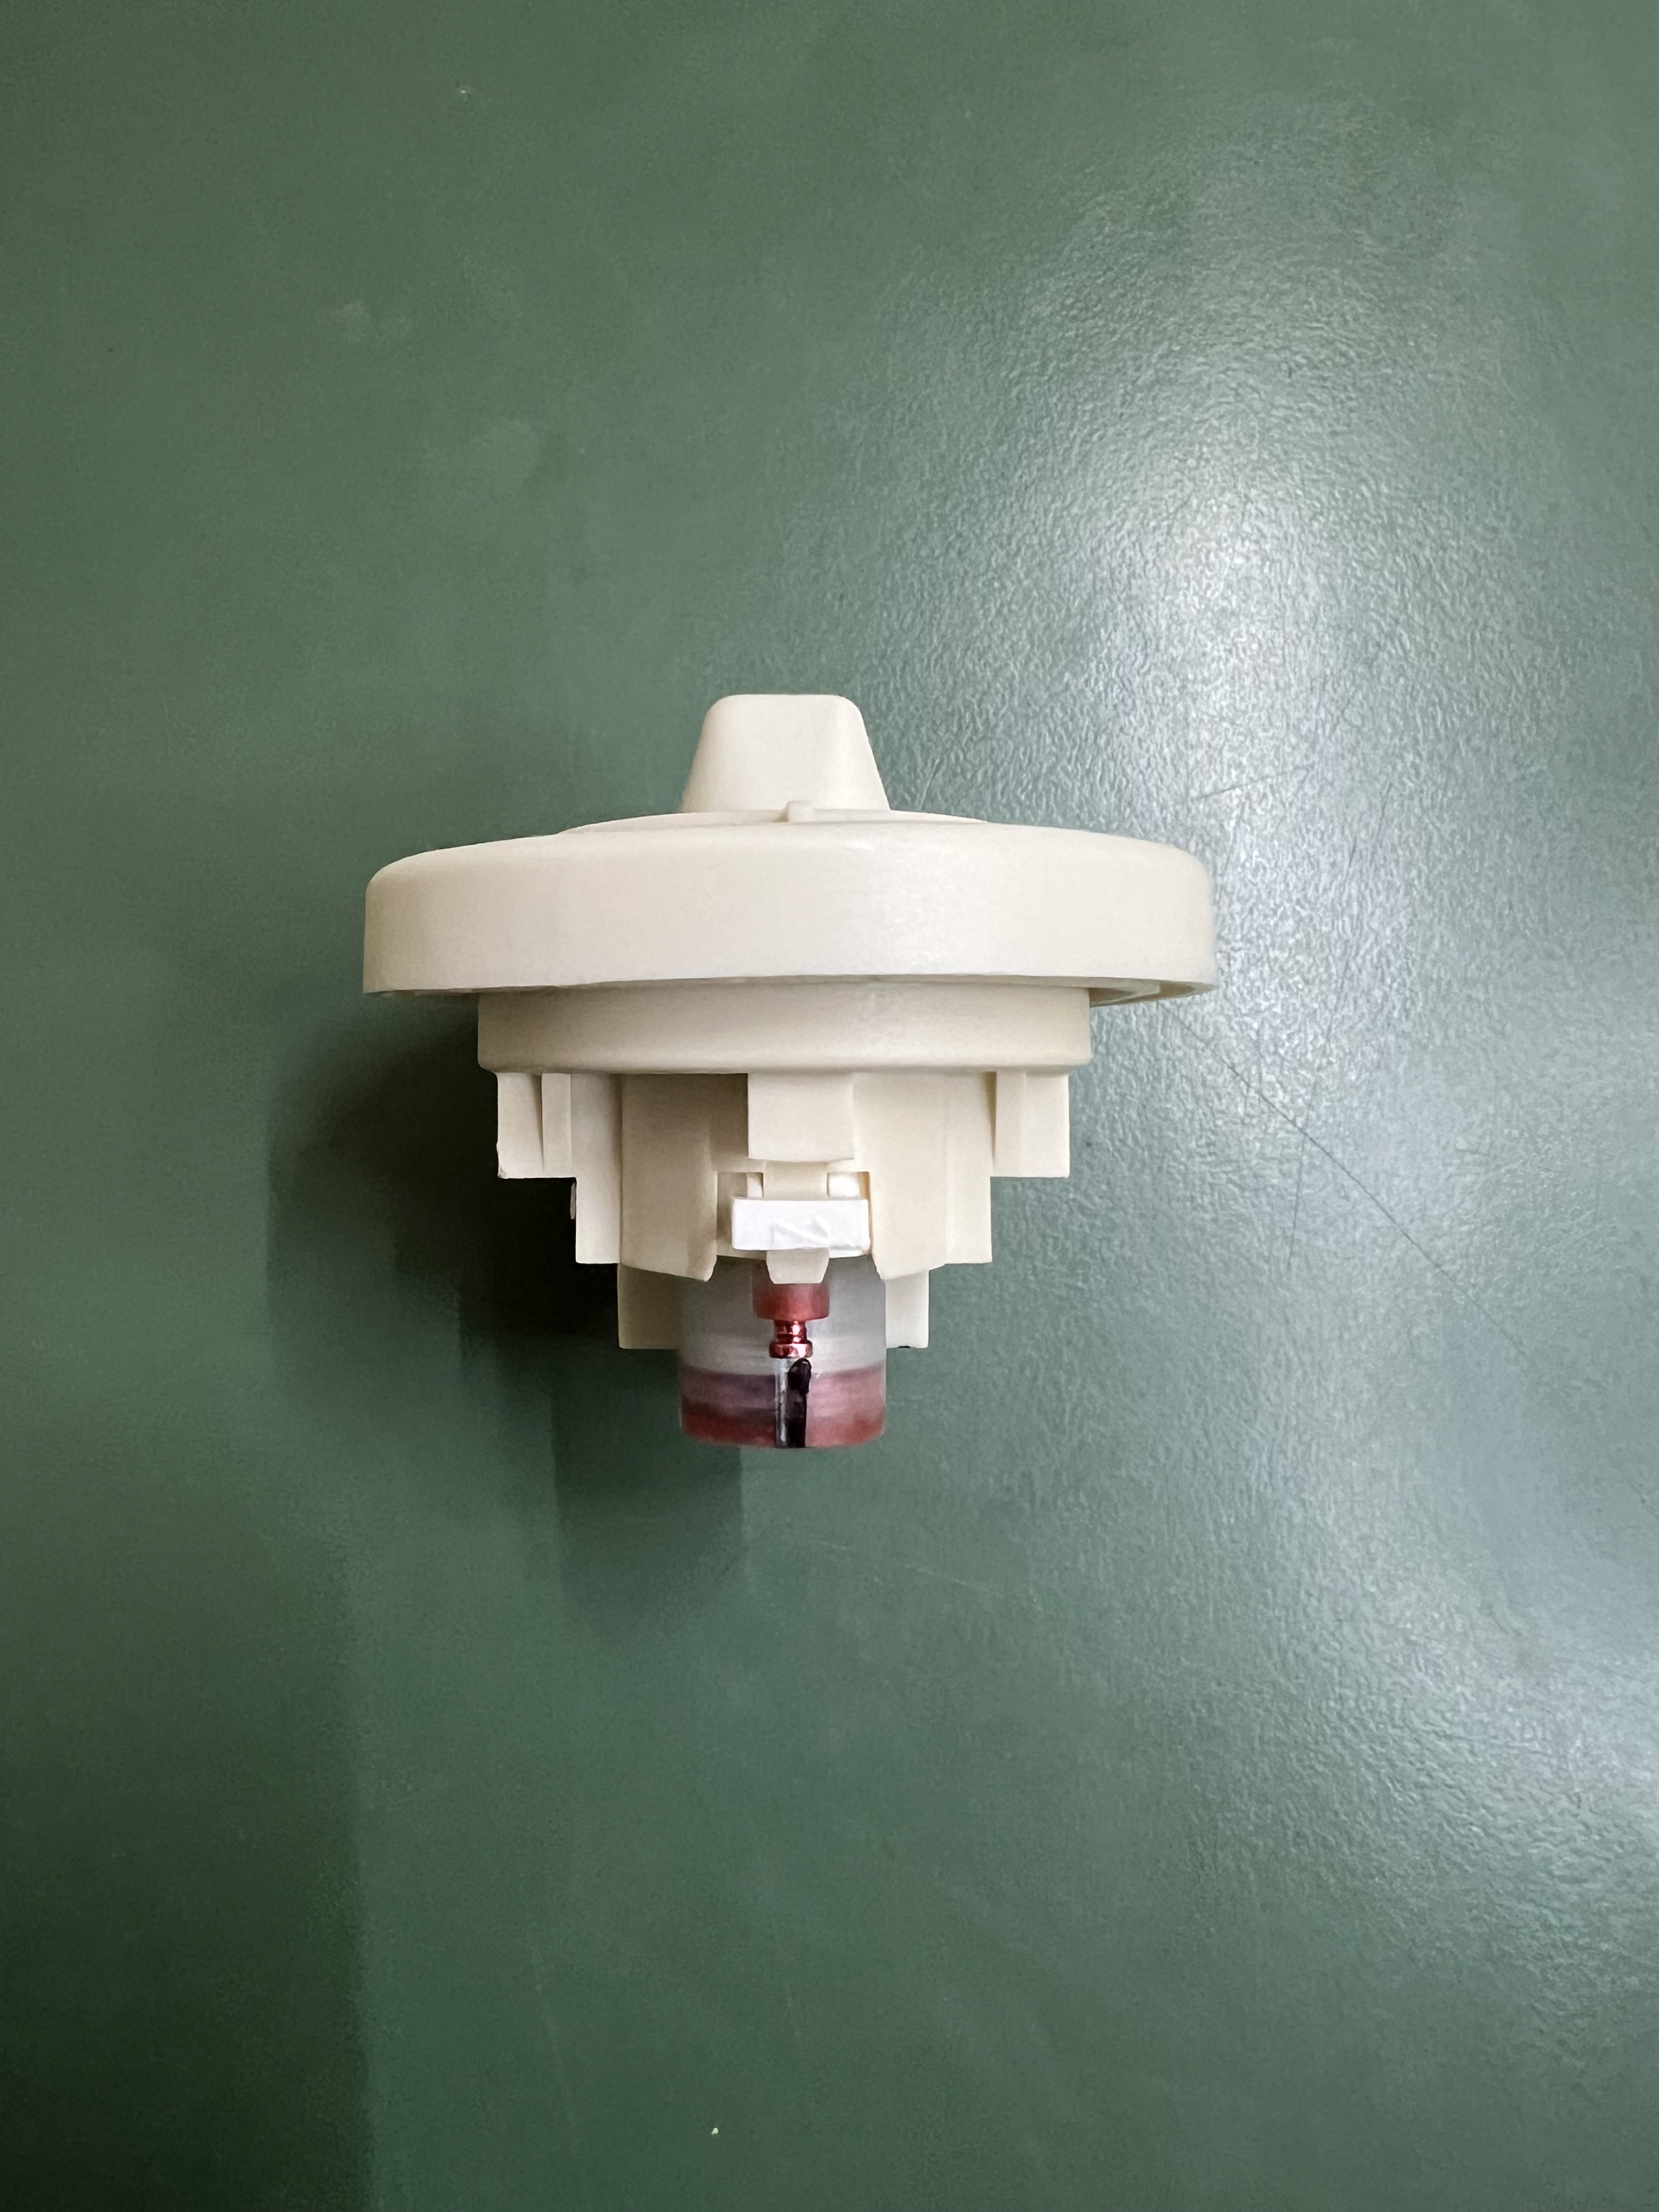pressure_sensor: (360, 693, 1249, 1504)
